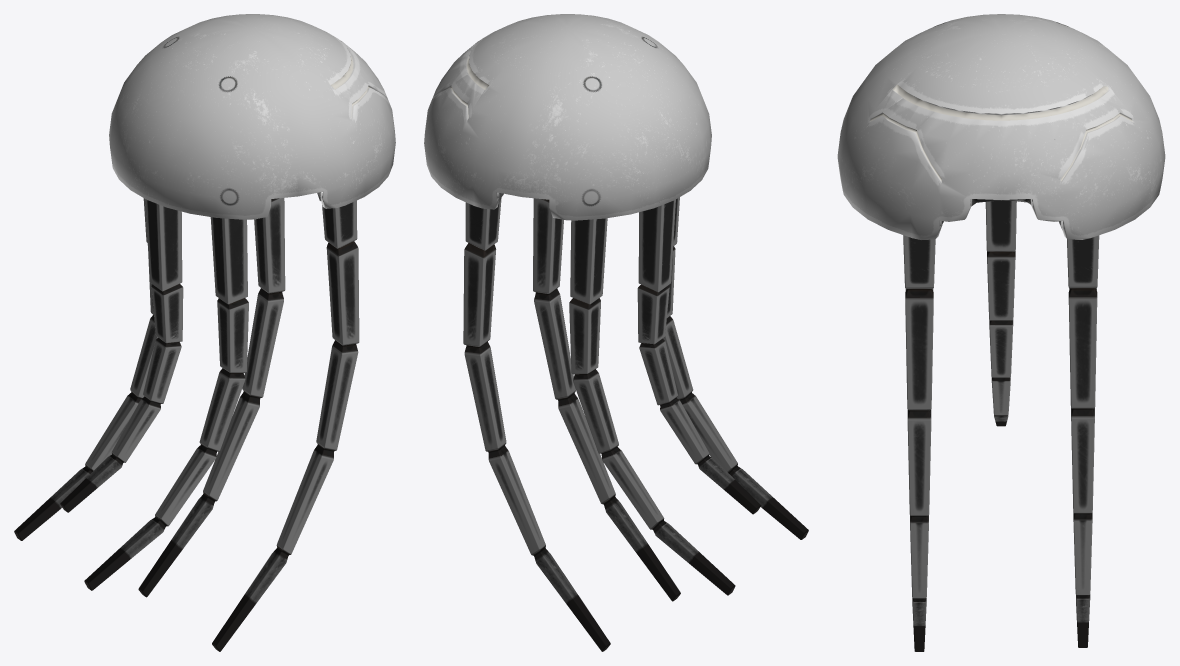
The model's file is JellyFishAnimated.fbx.
3 renders of one model, left to right at view 1: azimuth 30°, elevation 25°; view 2: azimuth 150°, elevation 25°; view 3: azimuth 270°, elevation 25°, orthographic. The views are drawn at different scales.
Visible parts, largest first — view 1: JellyFish; view 2: JellyFish; view 3: JellyFish.
Part boxes in pixels (bbox=[...]): JellyFish: bbox=[14, 14, 395, 651]; JellyFish: bbox=[424, 14, 808, 651]; JellyFish: bbox=[837, 14, 1165, 651].
Bounding box in the file's own units: 18.62 × 31.71 × 14.29.
